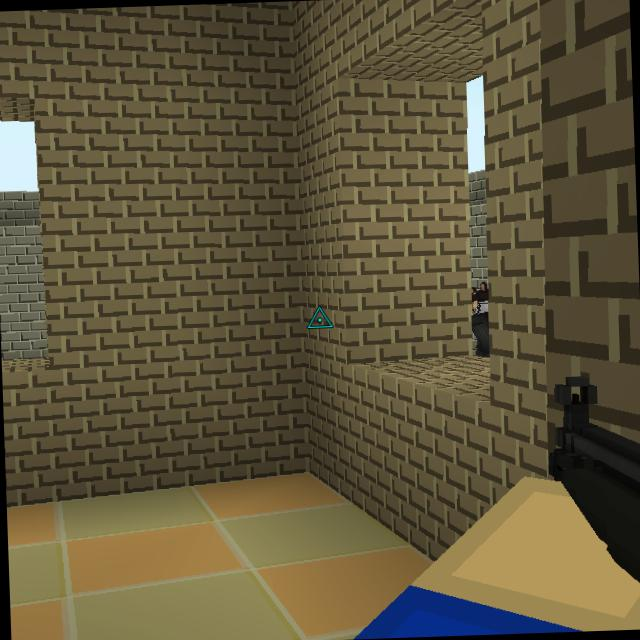enemy: (468, 280, 492, 357)
